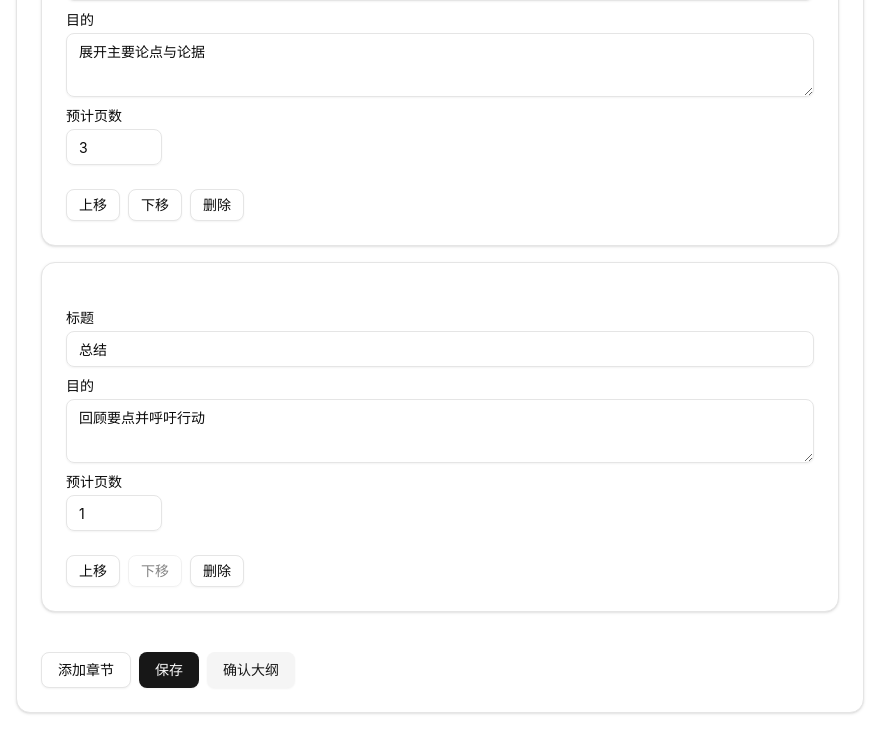
outline page — confirm reveals the next-step CTA (derived from confirmedByUser) › confirm failure (INVALID_STATE_TRANSITION) shows an error and no CTA
(page scrolled)
What coordinates should you click on to do the following:
click the button "确认大纲"
I would click on:
 (251, 670)
Its box is left=207, top=652, right=295, bottom=688.
(page scrolled)
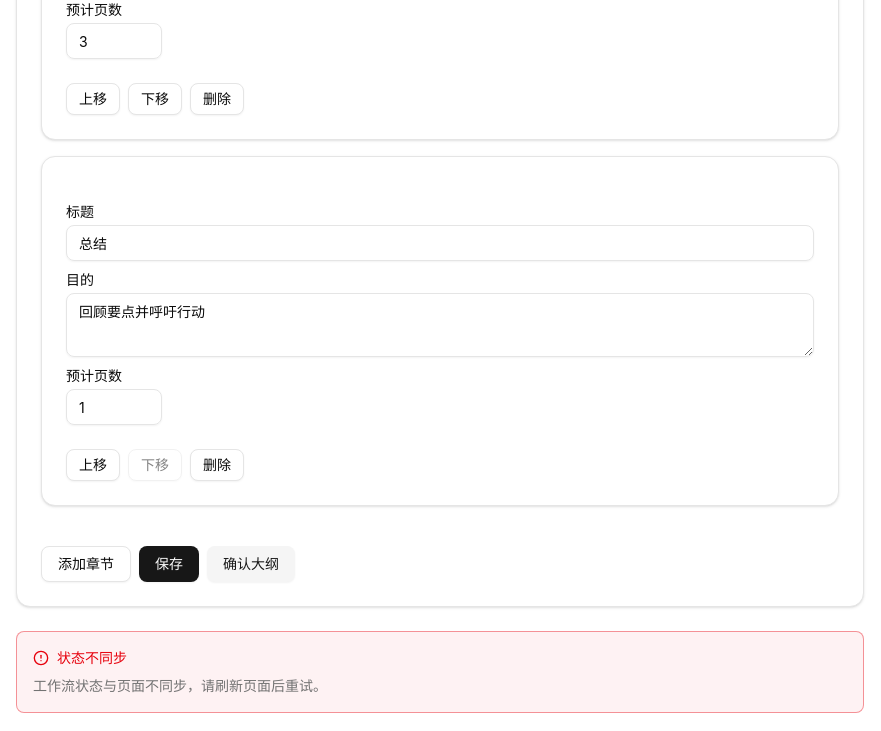
Expected: the message "状态不同步 工作流状态与页面不同步，请刷新页面后重试。" is shown, left=16, top=631, right=864, bottom=713
